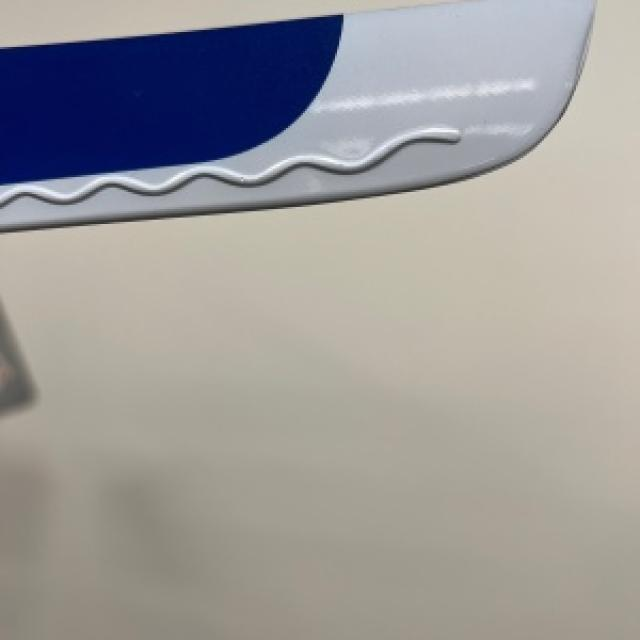healthy: (0, 0, 593, 228)
